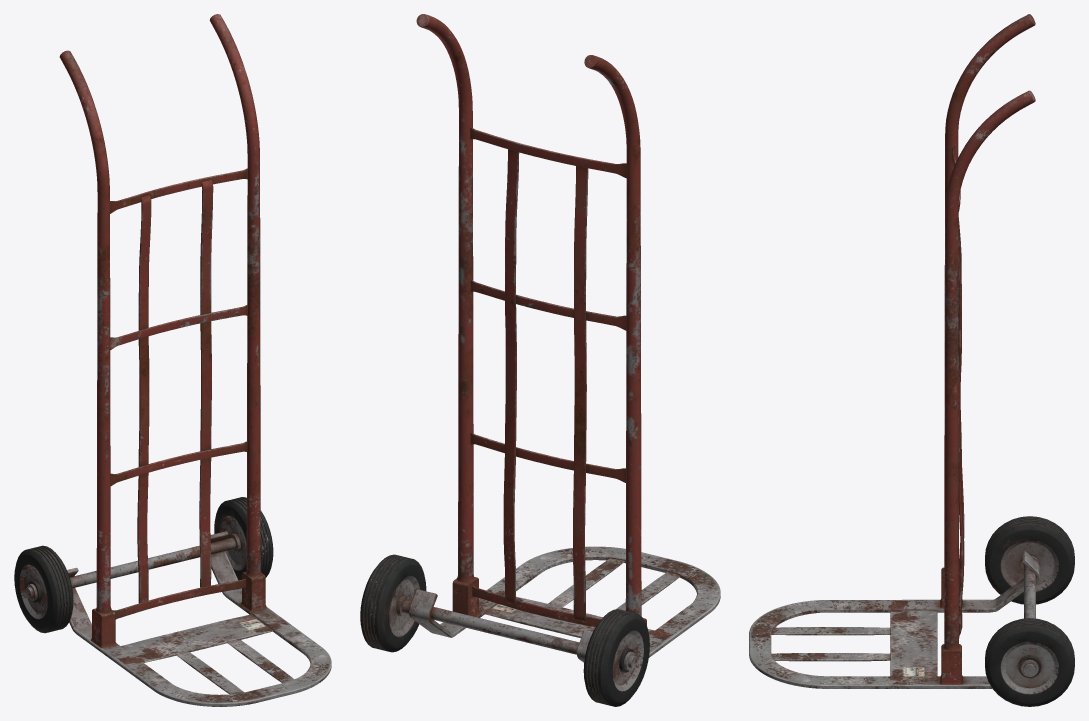
The model's file is premium-ph-hand-truck.glb.
The picture shows the model from 3 angles, left to right: view 1: azimuth 30°, elevation 25°; view 2: azimuth 150°, elevation 25°; view 3: azimuth 270°, elevation 25°; orthographic projection. The views are drawn at different scales.
Parts seen in each view (by area): view 1: hand_truck; view 2: hand_truck; view 3: hand_truck.
Part boxes in pixels (x1,y1,x2,y2): hand_truck: [14, 14, 331, 706]; hand_truck: [360, 14, 720, 706]; hand_truck: [749, 14, 1074, 706].
Size of the model in its own units: 0.5933 by 1.4 by 0.6926.
Materials: 1 (1 with a texture image).
